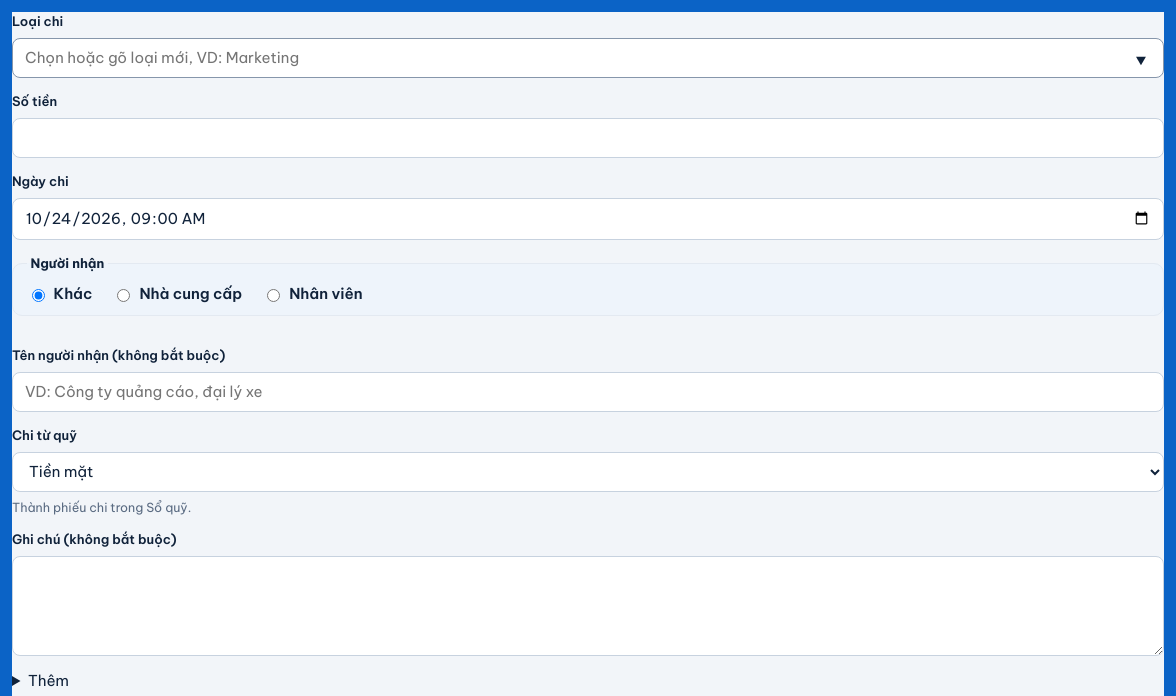
has no related-order box, keeps the profit switch under Thêm and explains salaries (FB10)
Step 1. Type "Lương thưởng" into the field labelled "Loại chi" → coordinates (588, 58), box [12,38,1164,78]
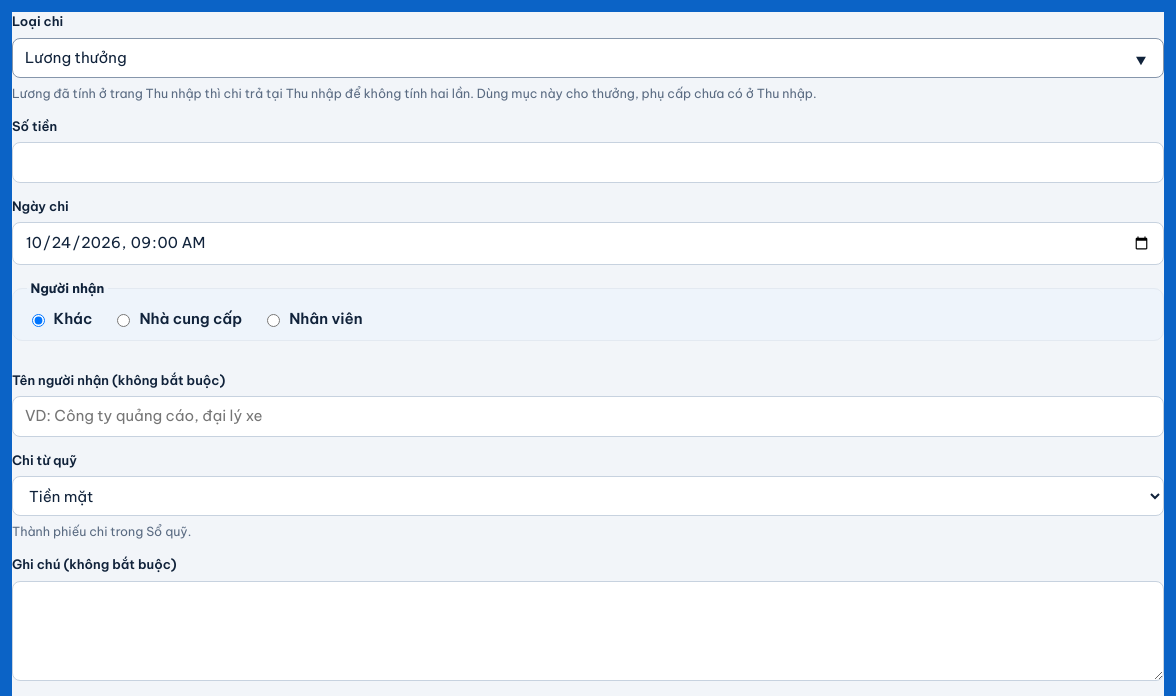
Expected: the text "chi trả tại Thu nhập" is shown, [12,85,817,101]
